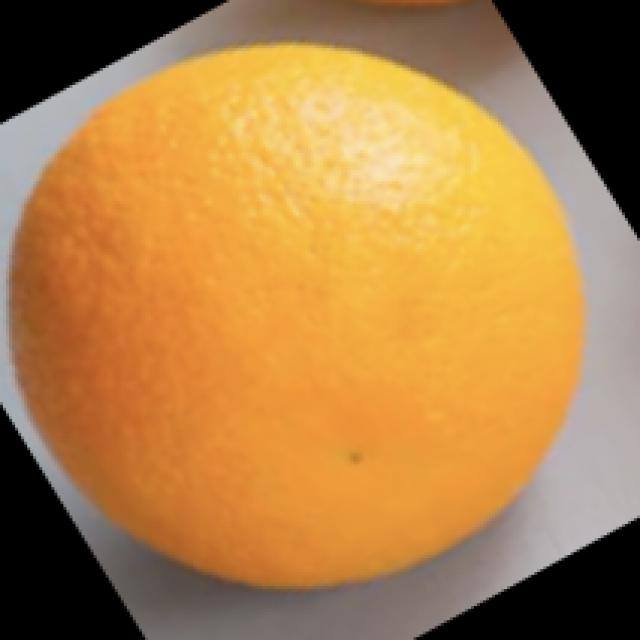fresh: (0, 34, 592, 609)
